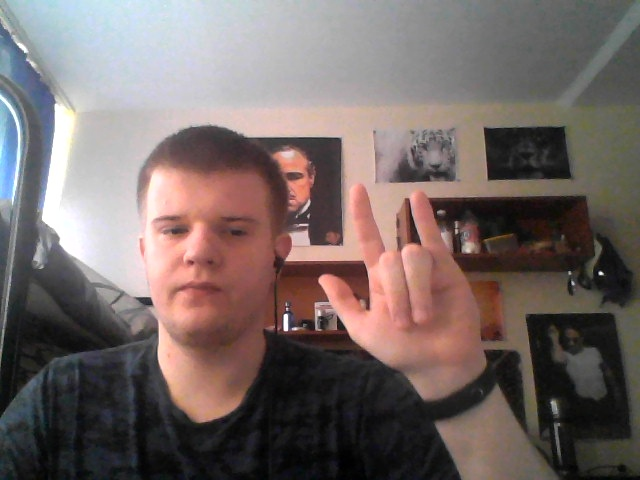iloveyou: (315, 179, 482, 369)
